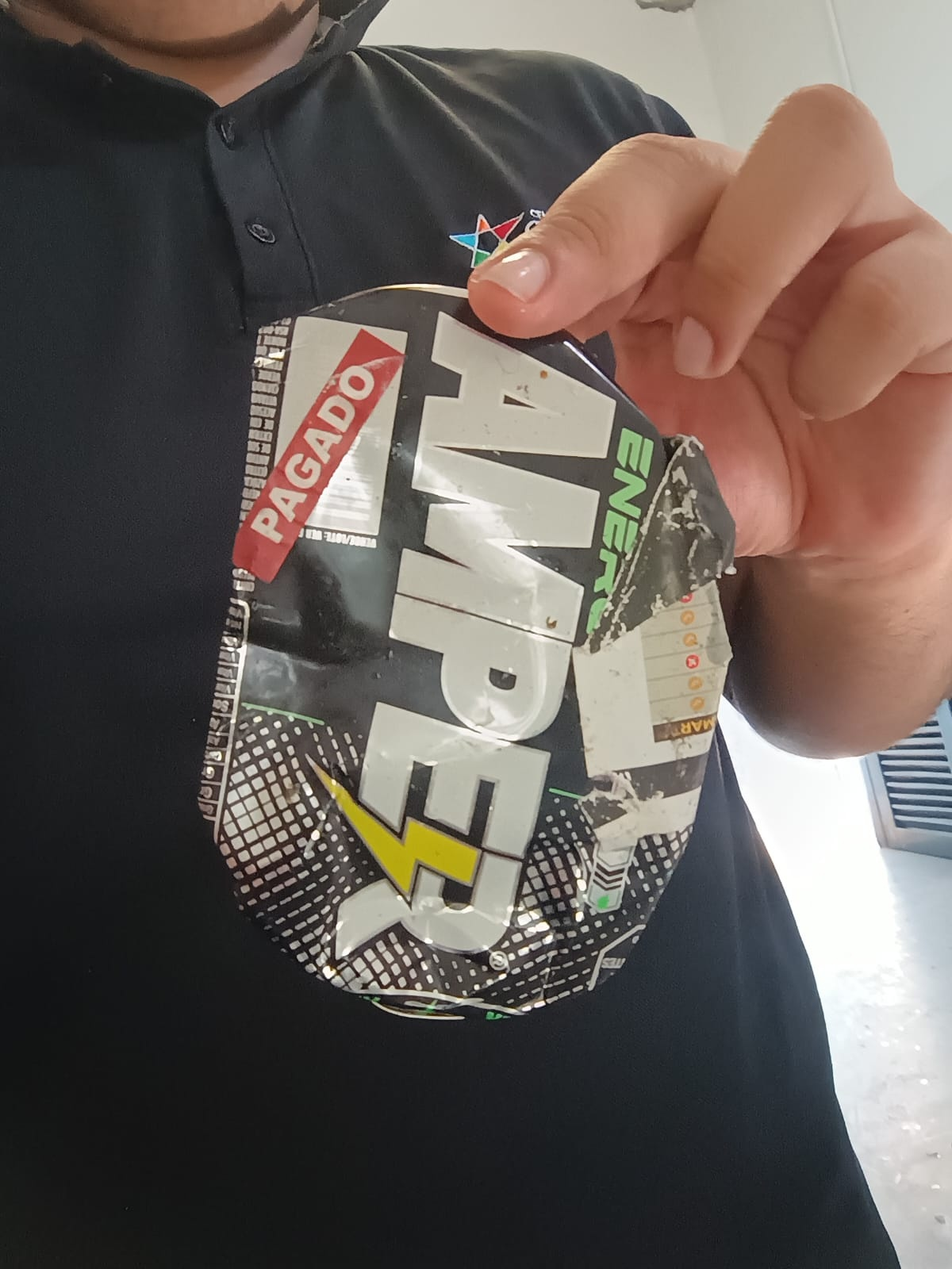Metal: (198, 287, 736, 1027)
